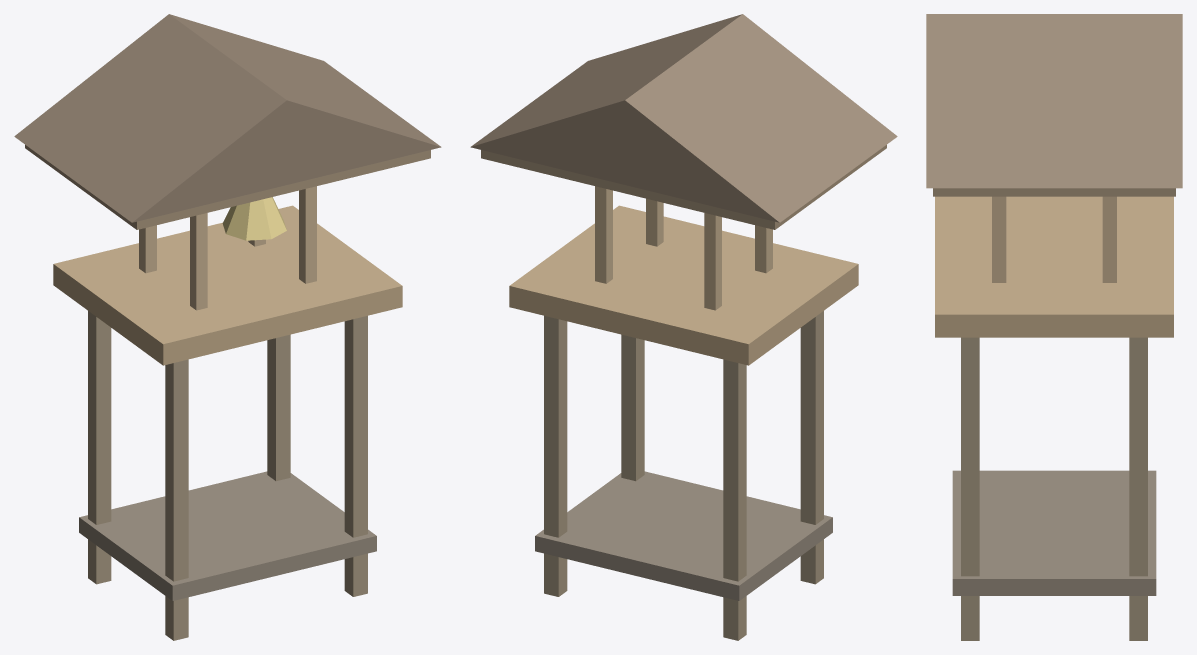
The model's file is reed_bell_tower_far-lSjEf2Wg.glb.
3 views of the same model, side by side, from view 1: azimuth 30°, elevation 25°; view 2: azimuth 150°, elevation 25°; view 3: azimuth 270°, elevation 25° (orthographic). The views are drawn at different scales.
Visible parts, largest first — view 1: reed_bell_tower_far; view 2: reed_bell_tower_far; view 3: reed_bell_tower_far.
Boxes of the visible parts, x1=… form: reed_bell_tower_far: x1=14, y1=14, x2=441, y2=640; reed_bell_tower_far: x1=470, y1=14, x2=897, y2=640; reed_bell_tower_far: x1=926, y1=14, x2=1182, y2=640.
Bounding box in the file's own units: 8.8 × 14.35 × 5.8.
